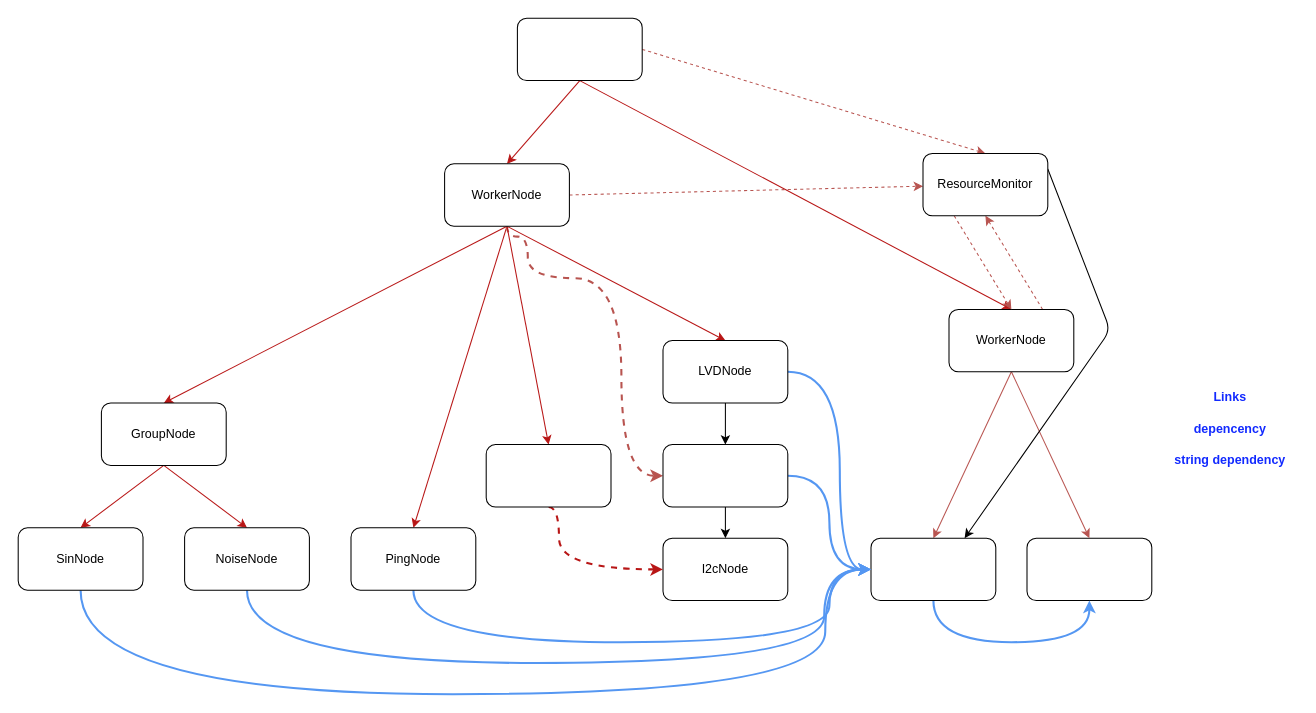
Image size: 1316x713. Some labels were removed from this diagram. The centre of each missing label's shape, as x and y in pixels:
"ADCNode" goes at (x=725, y=475).
"AggregatorNode" goes at (x=933, y=569).
"CSV Writer Node" goes at (x=1089, y=569).
"PressureNode" goes at (x=548, y=475).
"RootNode" goes at (x=579, y=49).
